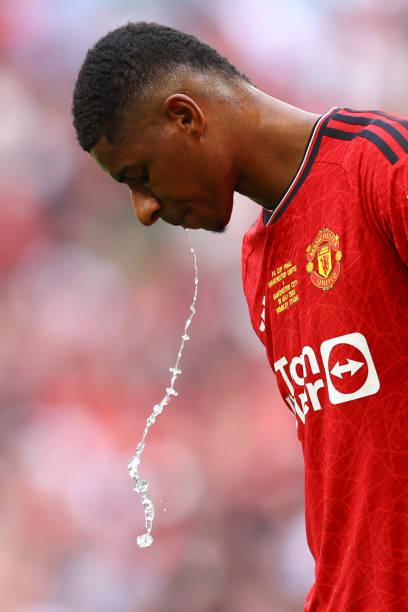Spitting: (59, 19, 328, 317)
